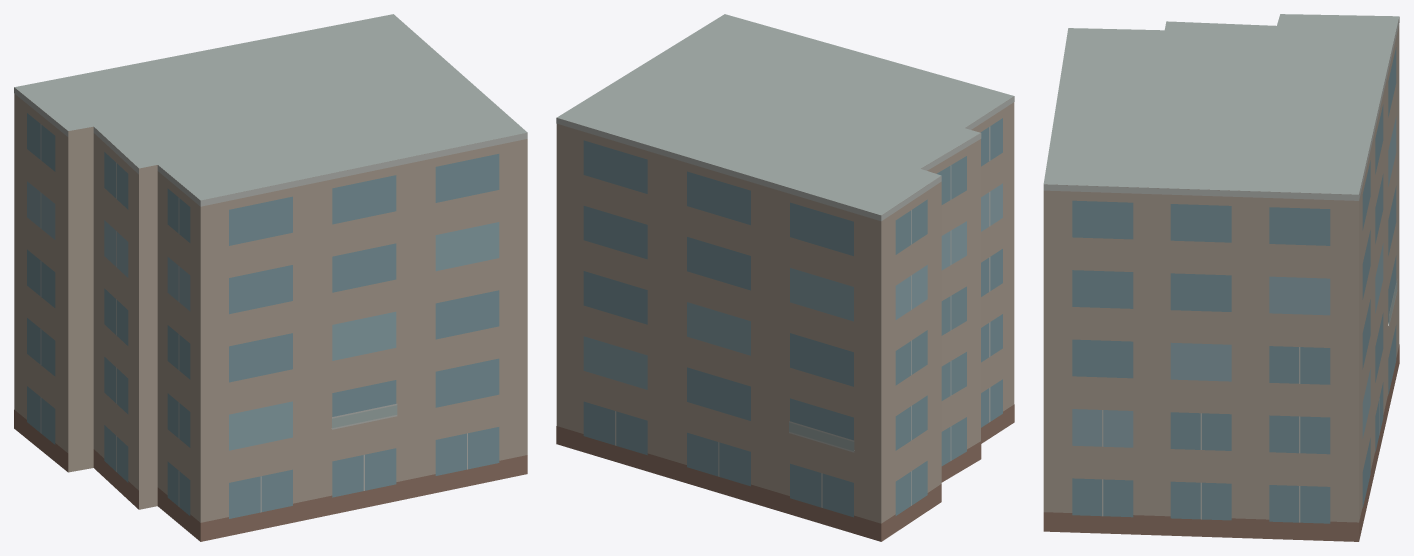
File: survey-upis-32637742.glb
3 renders of one model, left to right at view 1: azimuth 30°, elevation 25°; view 2: azimuth 150°, elevation 25°; view 3: azimuth 270°, elevation 25°, orthographic. The views are drawn at different scales.
Visible parts, largest first — view 1: survey-upis-32637742.tmp; view 2: survey-upis-32637742.tmp; view 3: survey-upis-32637742.tmp.
Part boxes in pixels (box(x1,y1,x2,y2)): survey-upis-32637742.tmp: box(14, 14, 527, 541); survey-upis-32637742.tmp: box(556, 14, 1014, 541); survey-upis-32637742.tmp: box(1043, 14, 1399, 541).
Size of the model in its own units: 15.08 by 13.5 by 12.55.
